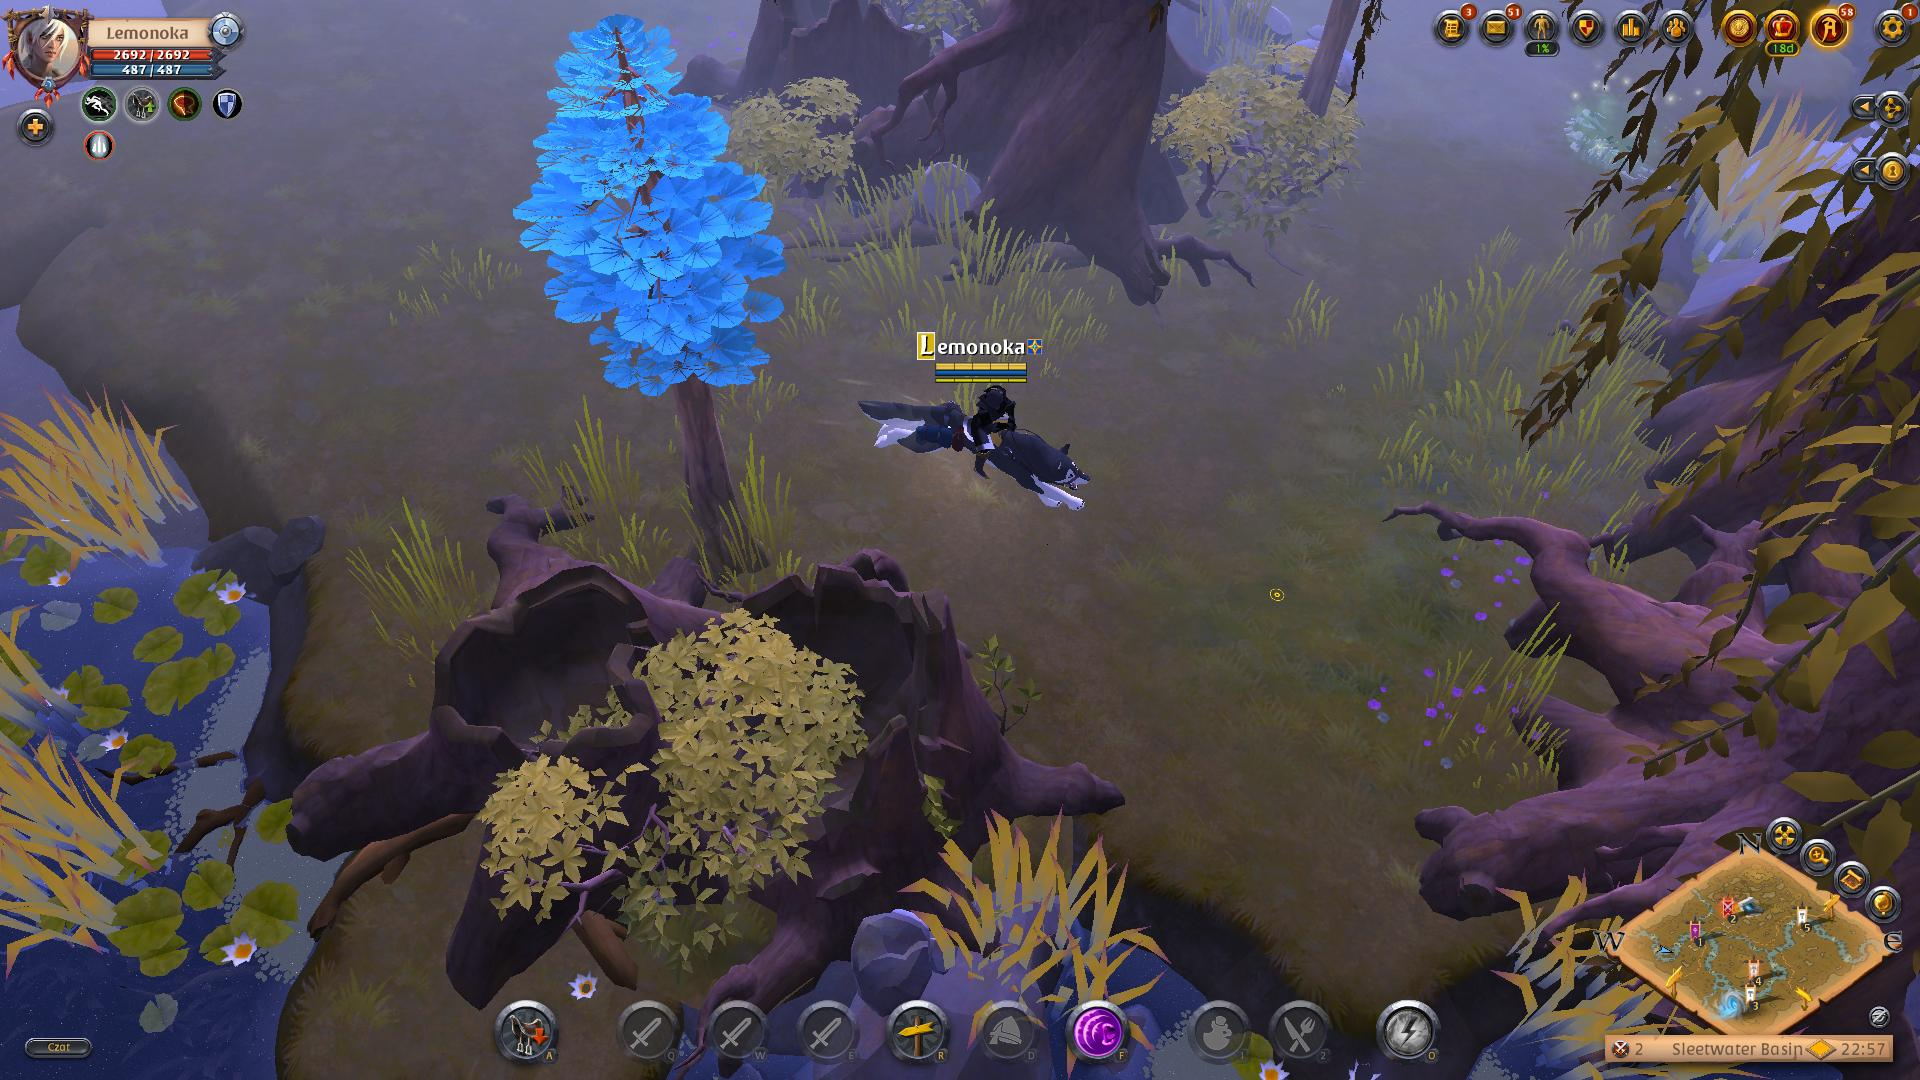wood tier 4: (512, 11, 795, 409)
